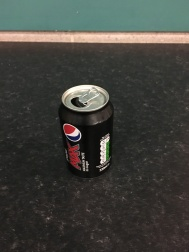can_black: (51, 78, 121, 185)
